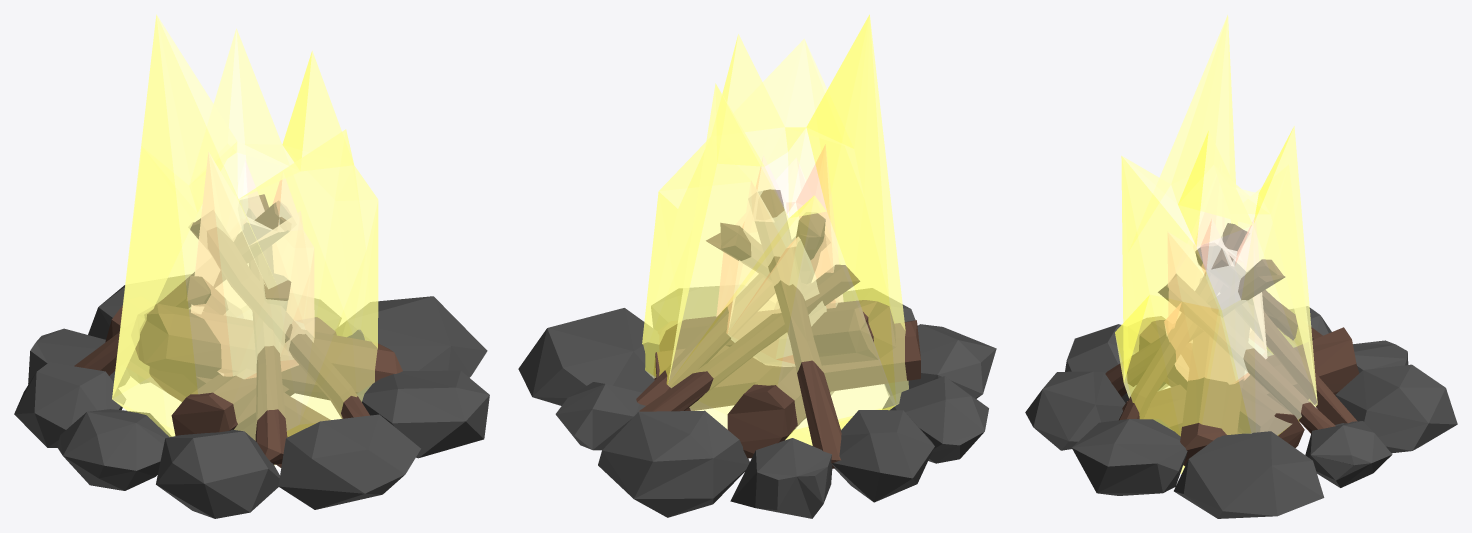
3 renders of one model, left to right at view 1: azimuth 30°, elevation 25°; view 2: azimuth 150°, elevation 25°; view 3: azimuth 270°, elevation 25°, orthographic. The views are drawn at different scales.
Visible parts, largest first — view 1: Fire_2, Stones_0, logs_1; view 2: Fire_2, Stones_0, logs_1; view 3: Fire_2, Stones_0, logs_1.
Boxes of the visible parts, x1,y1,x2,y2 form: Fire_2: [112, 14, 378, 469]; Stones_0: [14, 274, 489, 518]; logs_1: [74, 194, 402, 467]; Fire_2: [642, 14, 908, 445]; Stones_0: [518, 286, 996, 518]; logs_1: [636, 189, 920, 468]; Fire_2: [1115, 15, 1317, 474]; Stones_0: [1025, 306, 1457, 518]; logs_1: [1105, 223, 1359, 465].
Size of the model in its own units: 0.6689 by 0.692 by 0.6675.
